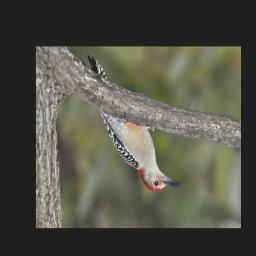Woodpecker: (87, 54, 182, 192)
